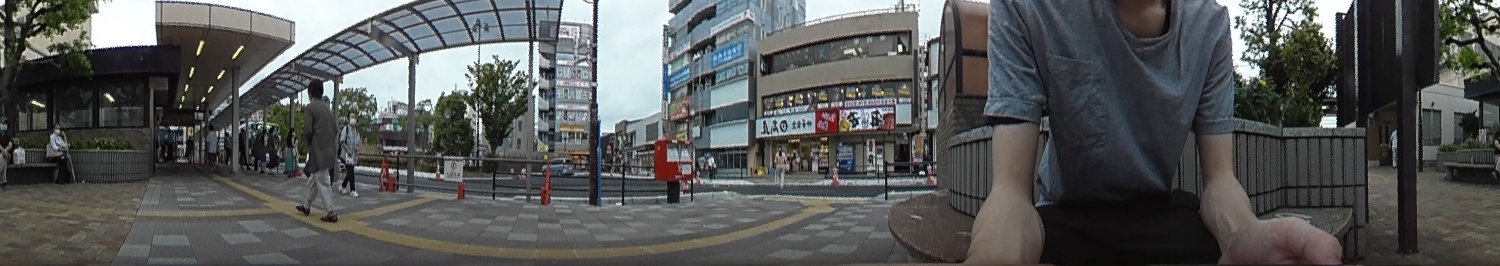difficult_person: (284, 127, 297, 176), (772, 147, 787, 189), (254, 129, 269, 169), (205, 124, 218, 166), (267, 130, 279, 171), (1388, 128, 1399, 169), (237, 128, 246, 166), (183, 135, 195, 163)
person: (301, 78, 335, 216), (336, 108, 361, 198), (45, 120, 72, 180), (0, 116, 14, 184)
